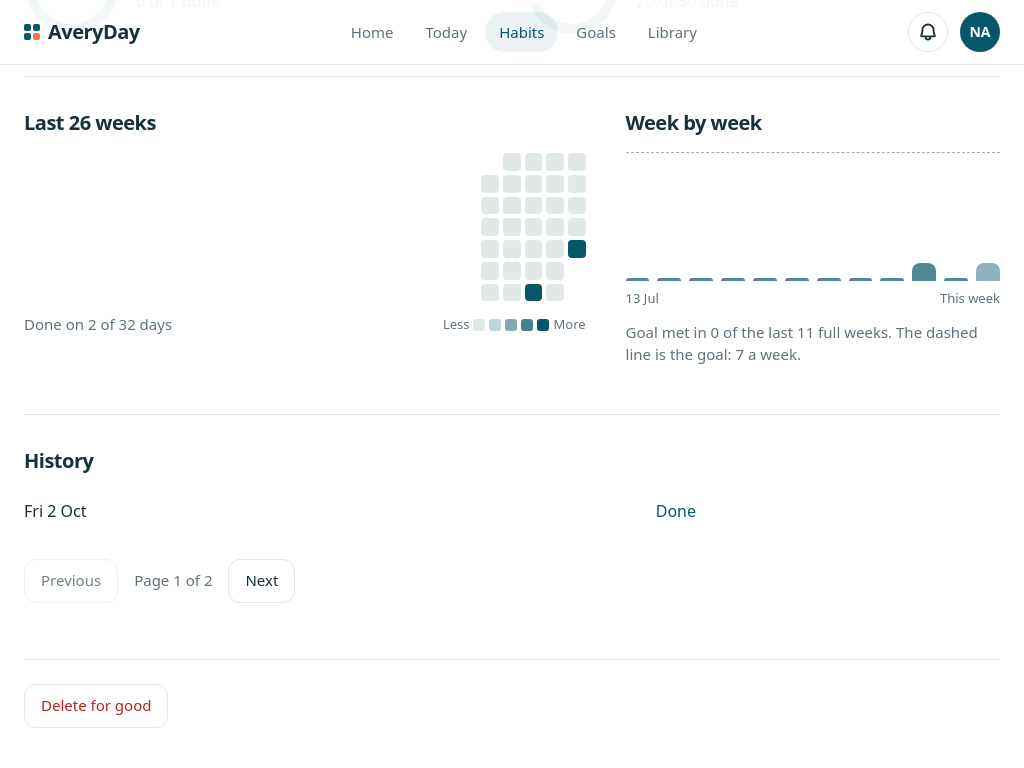
Scenario: habit detail › pages through a long history
(page scrolled)
Expected: the text "Page 1 of 2" is shown, [134, 569, 212, 592]
What coordinates should you click on to do the following:
click the button "Next"
I would click on:
 (262, 580)
Its box is [228, 558, 295, 602].
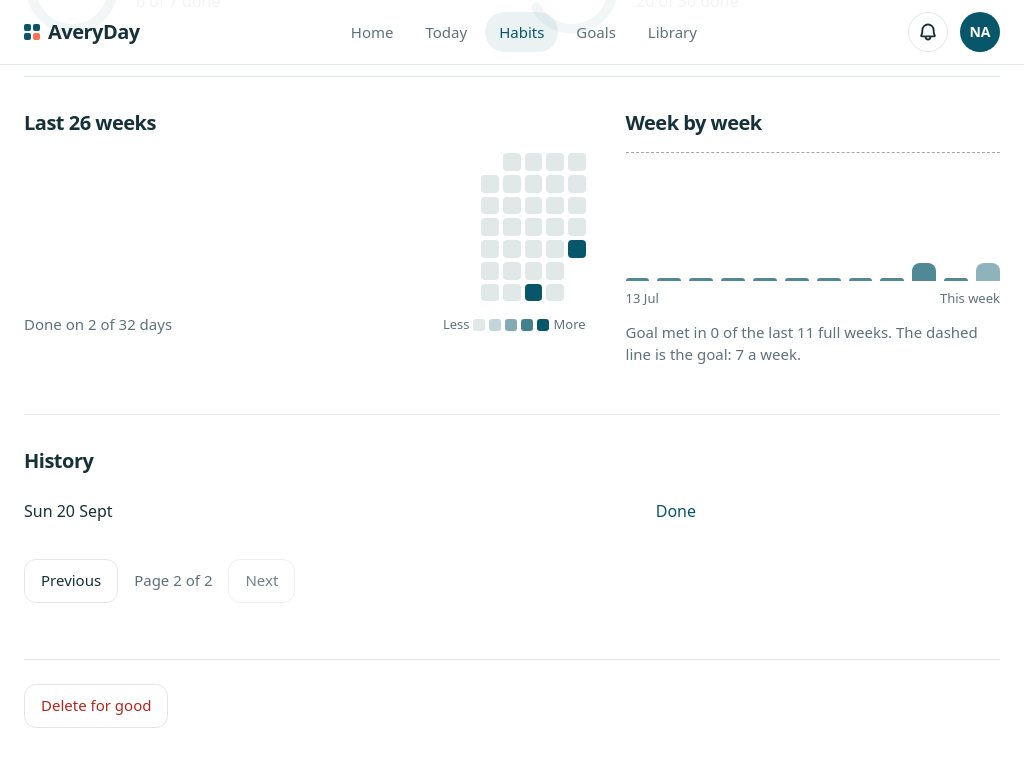
Result: the text "Sun 20 Sept?" is shown at [24, 500, 113, 522]
Result: the text "Page 2 of 2" is shown at [134, 569, 212, 592]
